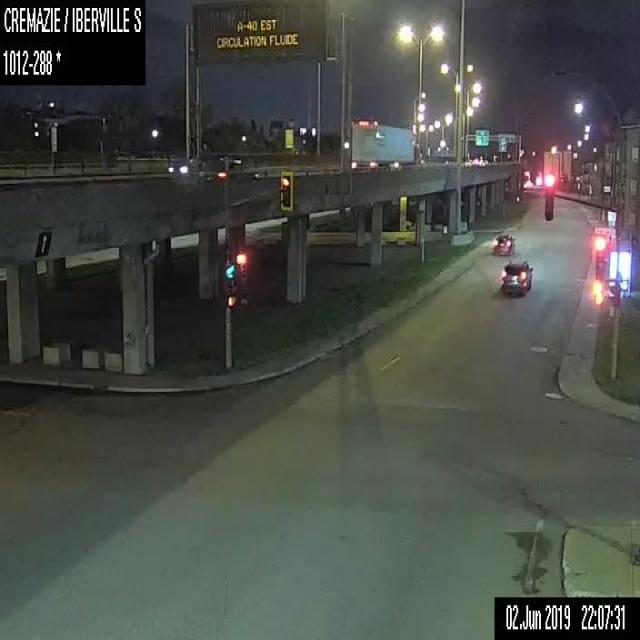vehicle: (350, 119, 422, 165), (203, 157, 258, 179), (501, 259, 534, 293), (168, 151, 197, 176), (492, 233, 514, 254), (464, 158, 474, 166), (478, 158, 488, 165)
